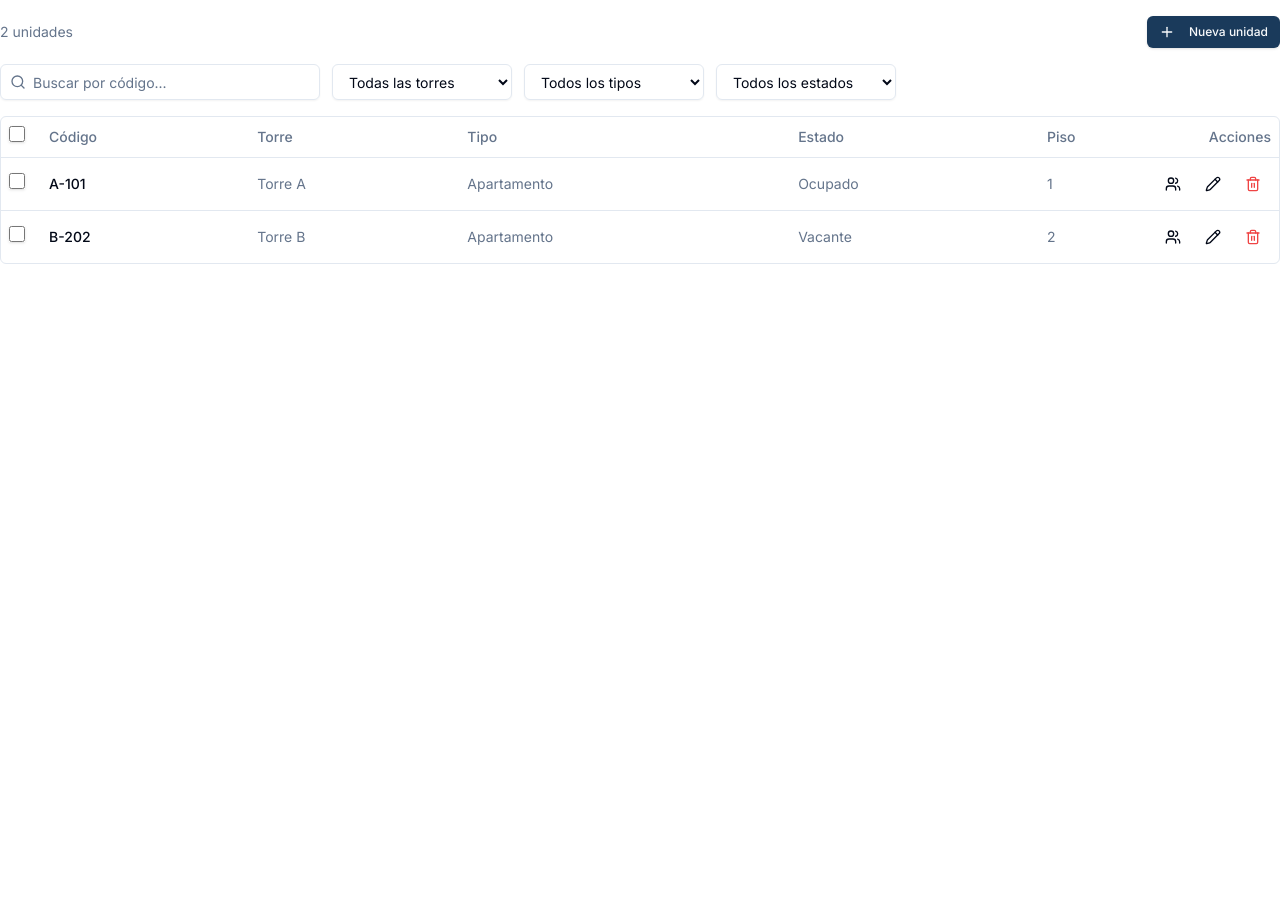
Test case: UnidadesTab › editar: precarga los datos de la unidad y no expone condominium_id como campo editable
Click the button titled "Editar unidad" in the row of "A-101": coordinates (1213, 184) x1=1195 y1=166 x2=1231 y2=202
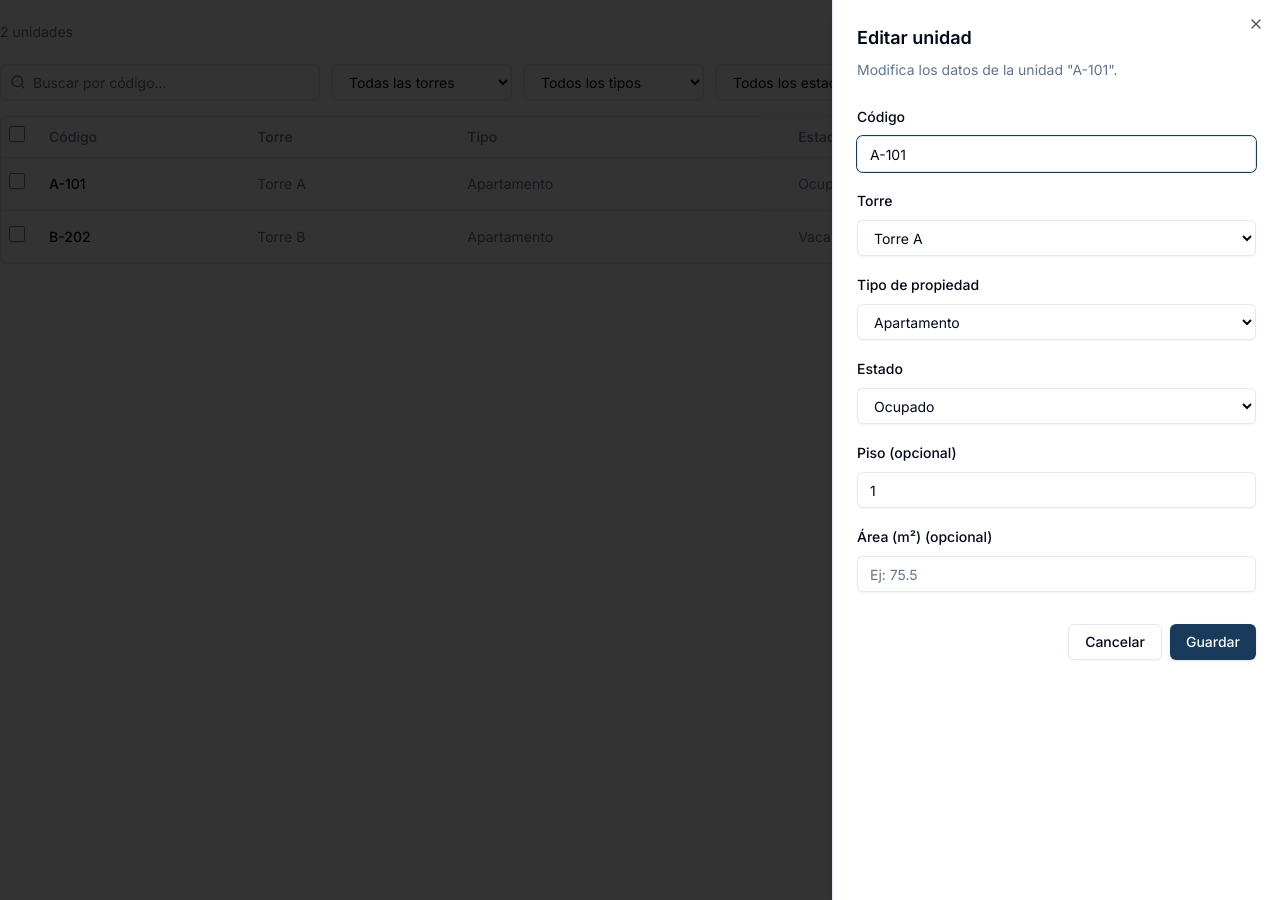
Check: the heading "Editar unidad" is shown, box x1=857 y1=27 x2=972 y2=48
Check: the field with placeholder "Ej: \"A-101\"" holds "A-101", box x1=857 y1=136 x2=1256 y2=172
Check: the dropdown labelled "Torre" shows "Torre A", box x1=857 y1=220 x2=1256 y2=256
